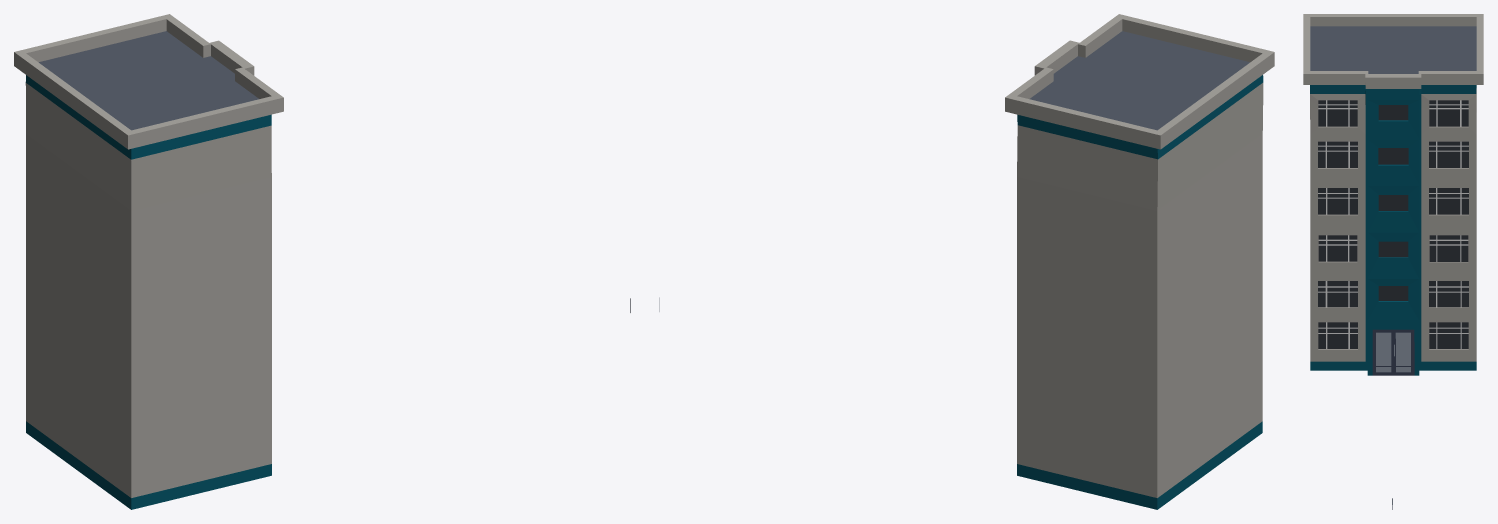
File: Building_PanelBig_Blue.fbx
3 views of the same model, side by side, from view 1: azimuth 30°, elevation 25°; view 2: azimuth 150°, elevation 25°; view 3: azimuth 270°, elevation 25° (orthographic). The views are drawn at different scales.
Parts seen in each view (by area): view 1: Cube; view 2: Cube; view 3: Cube.
Boxes of the visible parts, x1,y1,x2,y2 form: Cube: (14,14,630,509); Cube: (659,14,1274,509); Cube: (1303,14,1483,509).
Size of the model in its own units: 2544 by 1651 by 900.
